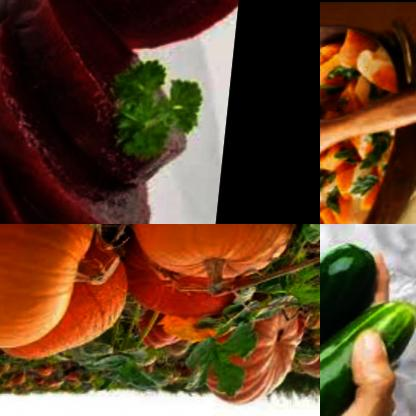beet: (0, 0, 208, 185), (0, 25, 179, 224), (0, 129, 133, 224), (18, 0, 254, 52)
cucumber: (320, 235, 388, 416), (320, 299, 416, 416)
pumpkin: (320, 30, 412, 224), (7, 230, 138, 362), (0, 224, 109, 349), (199, 301, 315, 410), (123, 235, 249, 321), (130, 224, 300, 286), (135, 312, 192, 355), (304, 351, 320, 384)
